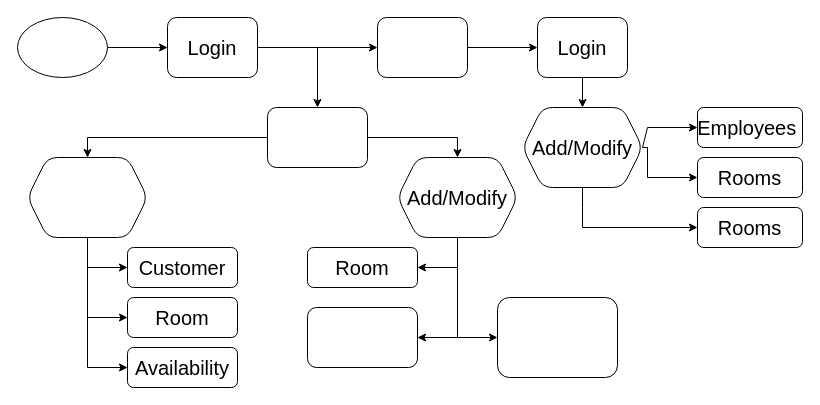
This 820x405 diagram has some shape labels left out. Here are the shapes that lost their labels. From the top down, the box of each, then its label:
(16, 16, 108, 78): Loading
(376, 16, 468, 78): Admin
(266, 106, 368, 168): Reception
(26, 156, 148, 238): Information
(306, 306, 418, 368): Check-in /out
(496, 296, 618, 378): Update Room Service
